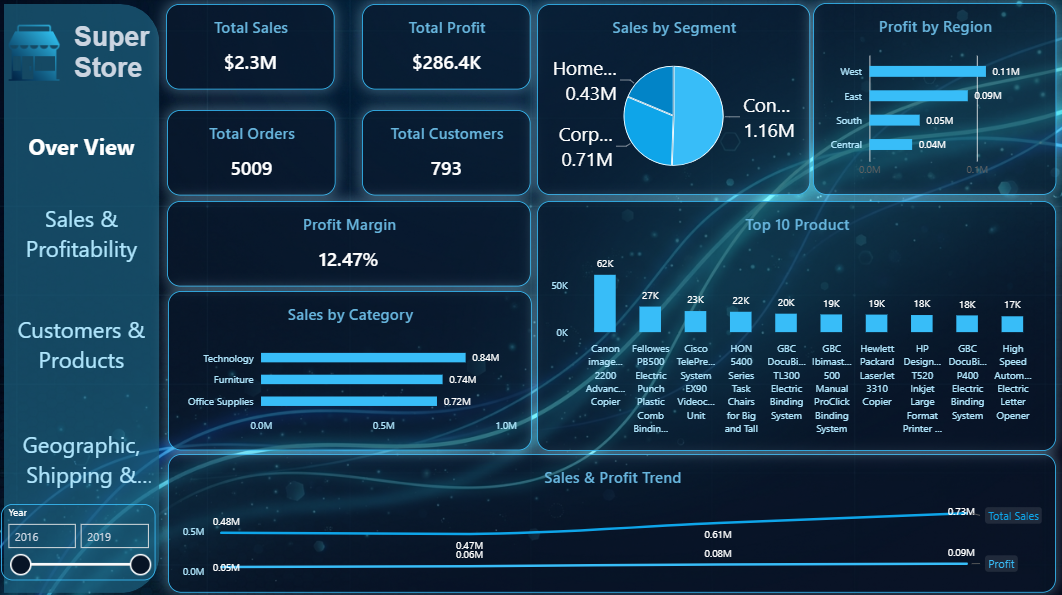

What the dashboard file says about the page in this screenshot:
{"tool":"powerbi","page":{"name":"Executive Overview","canvas":[1280,720],"ordinal":1},"visuals":[{"type":"group","id":"g1","title":"Group 2","box":[3.2,7.2,191.4,709.4],"z":0},{"type":"shape","box":[5.2,7.2,187.4,709.4],"z":0,"group":"g2"},{"type":"group","id":"g2","title":"Group 1","box":[5.2,7.2,187.4,709.4],"z":0,"group":"g1"},{"type":"card","title":"Total Sales","fields":{"Values":["Measures (2).Total Sales"]},"box":[201.2,7.2,203.1,103],"z":1000},{"type":"textbox","box":[89.6,28.7,103,81.5],"z":1000,"group":"g2"},{"type":"actionButton","title":"Over View","box":[3.2,153.9,191.4,47.9],"z":1000,"group":"g1"},{"type":"card","title":"Total Profit","fields":{"Values":["Measures (2).Profit"]},"box":[437.2,7.2,203.1,103],"z":2000},{"type":"image","box":[6.6,28.7,70.1,72.9],"z":2000,"group":"g2"},{"type":"actionButton","box":[3.2,239.9,191.4,88.9],"z":2000,"group":"g1"},{"type":"card","title":"Total Orders","fields":{"Values":["Measures (2).Total Orders"]},"box":[202.7,134.4,203.1,103],"z":3000},{"type":"actionButton","box":[3.2,366.9,191.4,100.8],"z":3000,"group":"g1"},{"type":"card","title":"Total Customers","fields":{"Values":["Measures (2).Total Customer"]},"box":[437.6,134.4,203.1,103],"z":4000},{"type":"actionButton","box":[3.2,505.9,191.4,100.8],"z":4000,"group":"g1"},{"type":"card","title":"Profit Margin","fields":{"Values":["Measures (2).Profit Margin"]},"box":[202.7,244.6,437.6,103],"z":5000},{"type":"lineChart","title":"Sales & Profit Trend","fields":{"Category":["Calendar.Year"],"Y":["Measures (2).Profit","Measures (2).Total Sales"]},"box":[203.6,549.2,1069.5,166.9],"z":6000},{"type":"clusteredBarChart","title":"Sales by Category","fields":{"Category":["Fact_Orders.Category"],"Y":["Measures (2).Total Sales"]},"box":[203.1,353.3,437.6,191.6],"z":7000},{"type":"pieChart","title":"Sales by Segment","fields":{"Category":["Fact_Orders.Segment"],"Y":["Measures (2).Total Sales"]},"box":[647.9,7.2,328.9,230.3],"z":8000},{"type":"clusteredBarChart","fields":{"Category":["Fact_Orders.Region"],"Y":["Measures (2).Profit"]},"box":[980.1,6.6,293,231.2],"z":9000},{"type":"clusteredColumnChart","title":"Top 10 Product","fields":{"Category":["Fact_Orders.Product Name"],"Y":["Measures (2).Total Sales"]},"box":[647.7,244.4,625.4,300.9],"z":10000},{"type":"slicer","fields":{"Values":["Calendar.Year"]},"box":[2.8,609.7,185.8,92.2],"z":11000}]}

Visuals, with their boxes in screenshot pixels (x1, y1, x2, y2), scaled from the page's 1280x720 canvas onto the 1062x595 screenshot:
"Group 2" group: 3:6:161:592
shape: 4:6:160:592
"Group 1" group: 4:6:160:592
"Total Sales" card: 167:6:335:91
textbox: 74:24:160:91
"Over View" actionButton: 3:127:161:167
"Total Profit" card: 363:6:531:91
image: 5:24:64:84
actionButton: 3:198:161:272
"Total Orders" card: 168:111:337:196
actionButton: 3:303:161:387
"Total Customers" card: 363:111:532:196
actionButton: 3:418:161:501
"Profit Margin" card: 168:202:531:287
"Sales & Profit Trend" lineChart: 169:454:1056:592
"Sales by Category" clusteredBarChart: 169:292:532:450
"Sales by Segment" pieChart: 538:6:810:196
clusteredBarChart - Fact_Orders.Region x Measures (2).Profit: 813:5:1056:197
"Top 10 Product" clusteredColumnChart: 537:202:1056:451
slicer - Calendar.Year: 2:504:156:580
